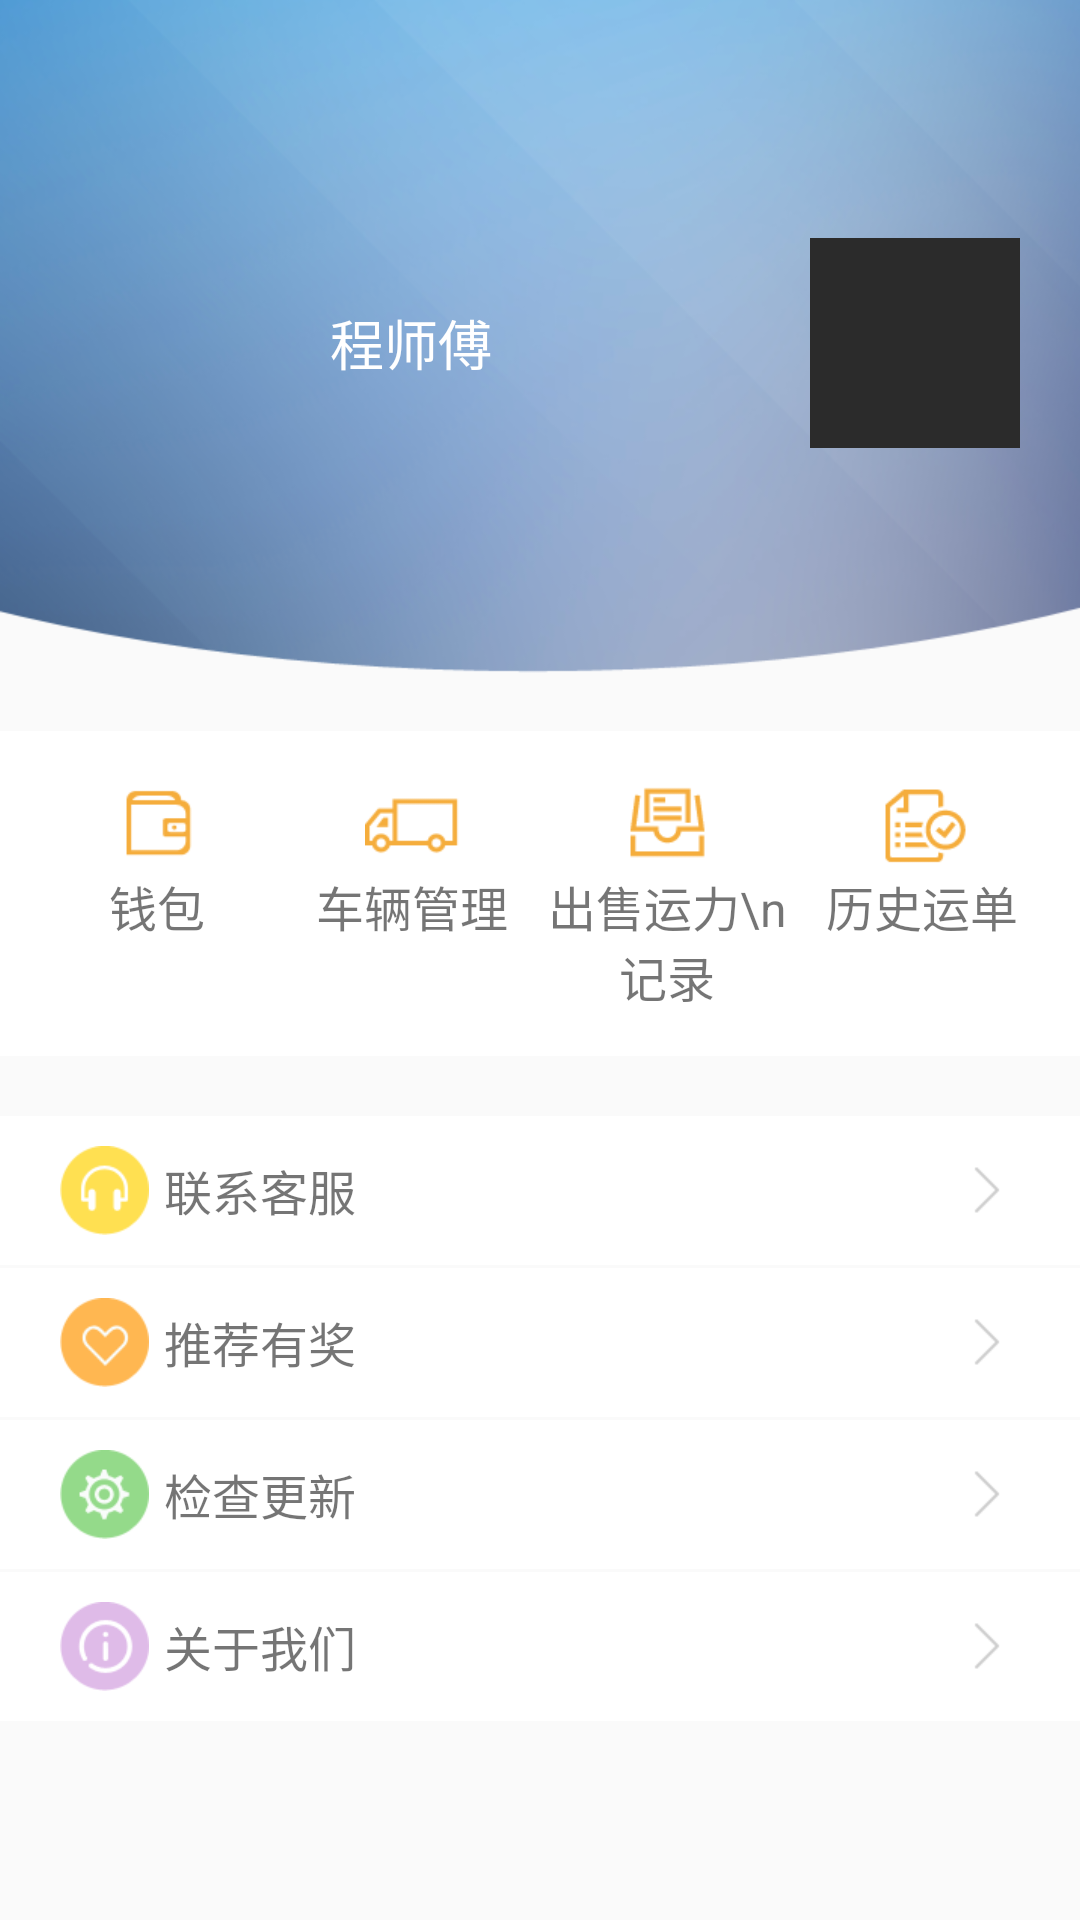

Screen size 1080 × 1920. Icon name, then its box in pixels as (x1, y1, x2, y2):
right: (975, 1168, 999, 1212), (975, 1320, 999, 1364), (975, 1472, 999, 1516), (975, 1624, 999, 1668)
